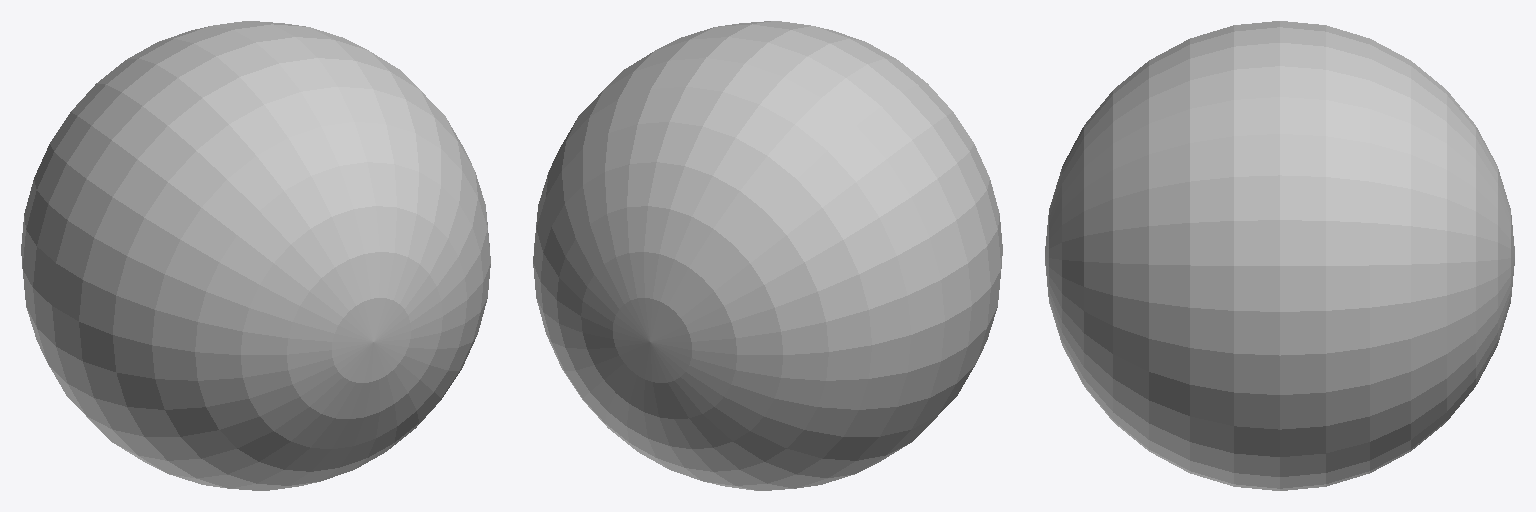
The model's file is light.obj.
The picture shows the model from 3 angles: view 1: azimuth 30°, elevation 25°; view 2: azimuth 150°, elevation 25°; view 3: azimuth 270°, elevation 25°; orthographic projection.
Visible parts, largest first — view 1: Sphere; view 2: Sphere; view 3: Sphere.
Boxes of the visible parts, box(x1,y1,x2,y2) form: Sphere: box(21, 21, 490, 490); Sphere: box(533, 21, 1002, 490); Sphere: box(1045, 21, 1514, 490).
Size of the model in its own units: 0.8369 by 0.8369 by 0.8369.